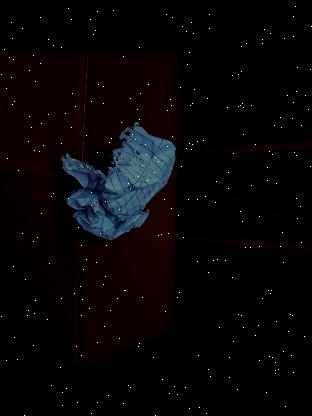Others: (62, 121, 178, 237)
